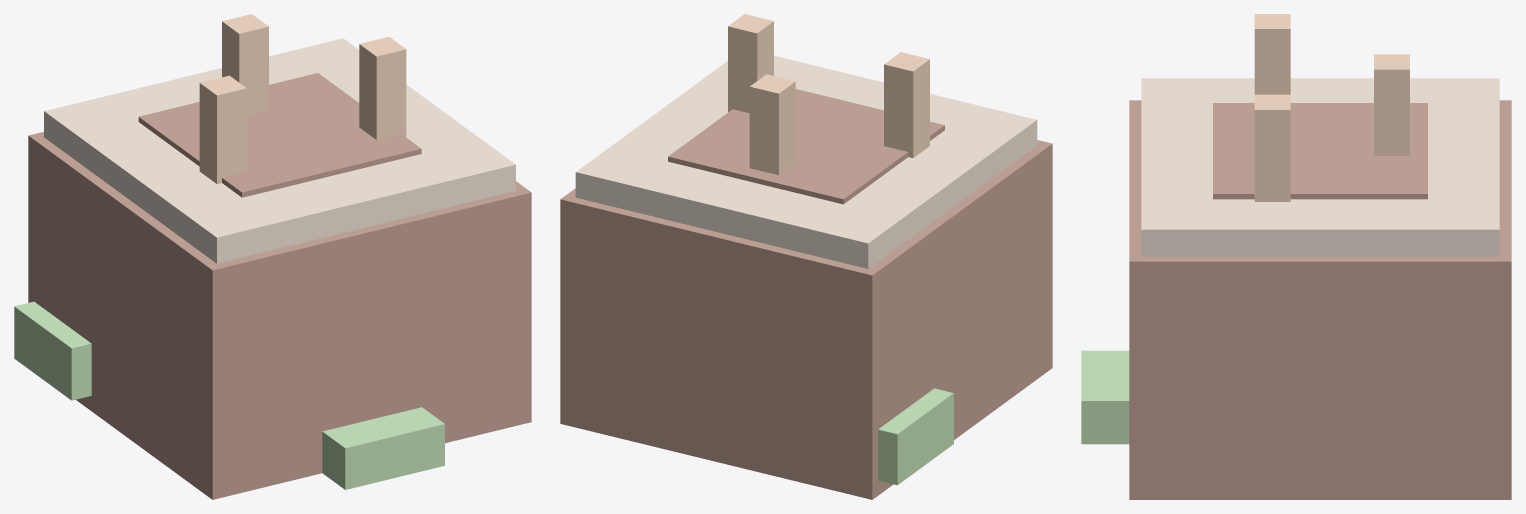
Rendered from gear-stump.glb.
3 renders of one model, left to right at view 1: azimuth 30°, elevation 25°; view 2: azimuth 150°, elevation 25°; view 3: azimuth 270°, elevation 25°, orthographic. The views are drawn at different scales.
Visible parts, largest first — view 1: Stump, Pegs; view 2: Stump, Pegs; view 3: Stump, Pegs.
Part boxes in pixels (x1,y1,x2,y2): Stump: (14, 38, 531, 499); Pegs: (199, 14, 406, 183); Stump: (560, 55, 1052, 499); Pegs: (728, 14, 929, 175); Stump: (1081, 78, 1511, 499); Pegs: (1254, 14, 1409, 201).
Bounding box in the file's own units: 0.34 × 0.33 × 0.36.
